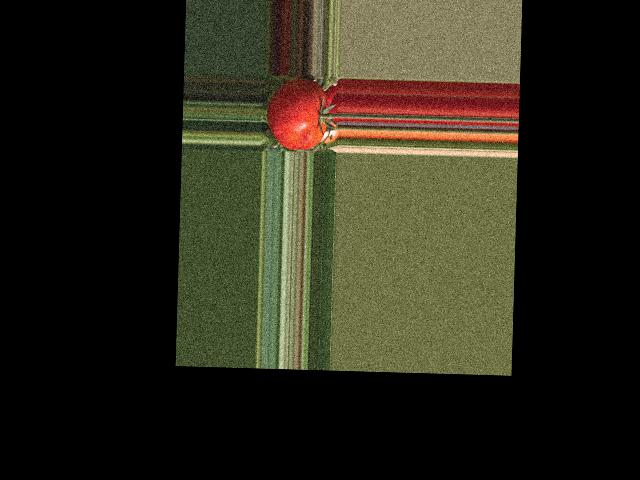tomato: (266, 78, 329, 151)
